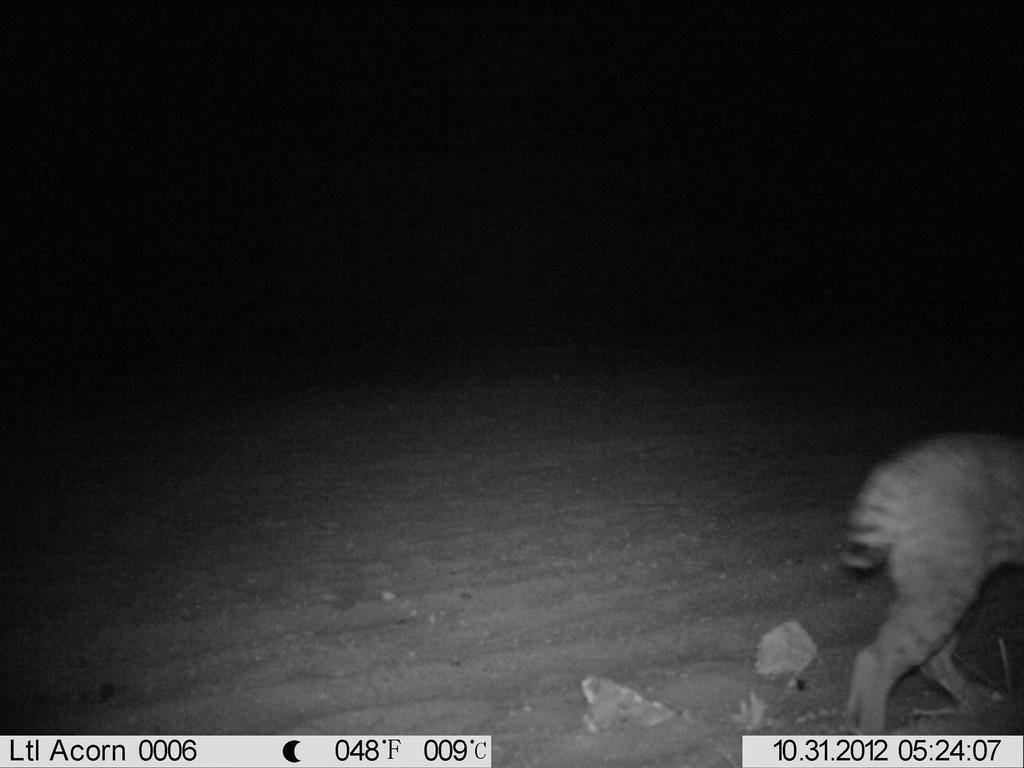bobcat: (825, 412, 1023, 738)
